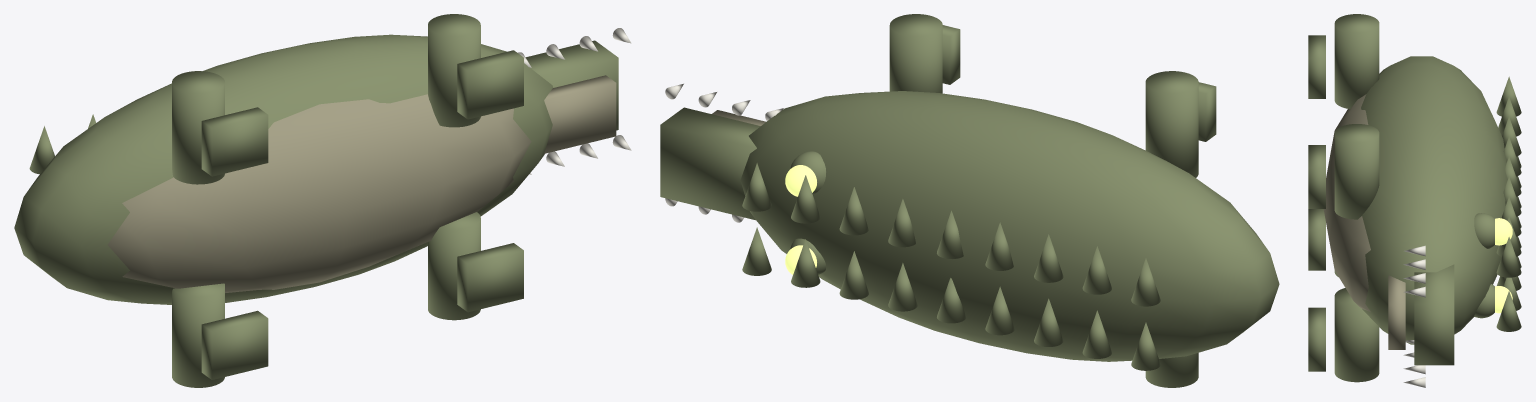
The model's file is gator.glb.
3 renders of one model, left to right at view 1: azimuth 30°, elevation 25°; view 2: azimuth 150°, elevation 25°; view 3: azimuth 270°, elevation 25°, orthographic. The views are drawn at different scales.
Parts seen in each view (by area): view 1: GatorBody; view 2: GatorBody, GatorEyes; view 3: GatorBody, GatorEyes.
Part boxes in pixels (box(x1,y1,x2,y2)): GatorBody: box(14, 14, 631, 387); GatorBody: box(660, 14, 1279, 387); GatorEyes: box(785, 151, 825, 274); GatorBody: box(1308, 14, 1521, 387); GatorEyes: box(1474, 213, 1512, 318).
Size of the model in its own units: 2.36 by 1.1 by 0.855.
